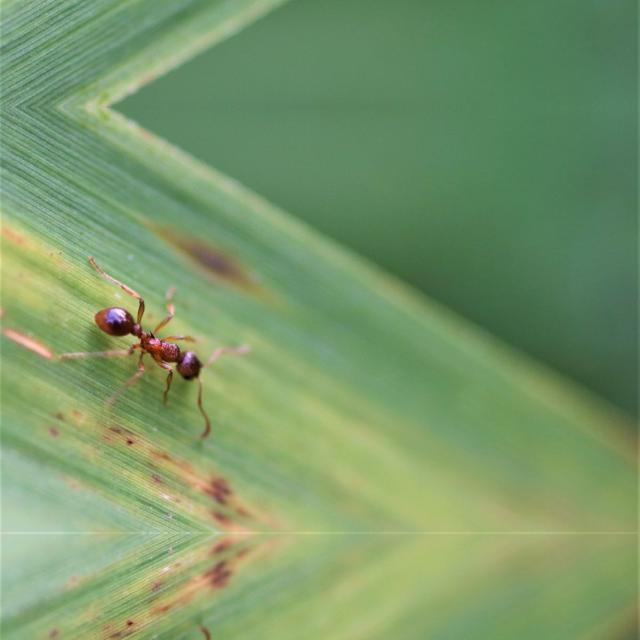Myrmica: (67, 272, 241, 398)
